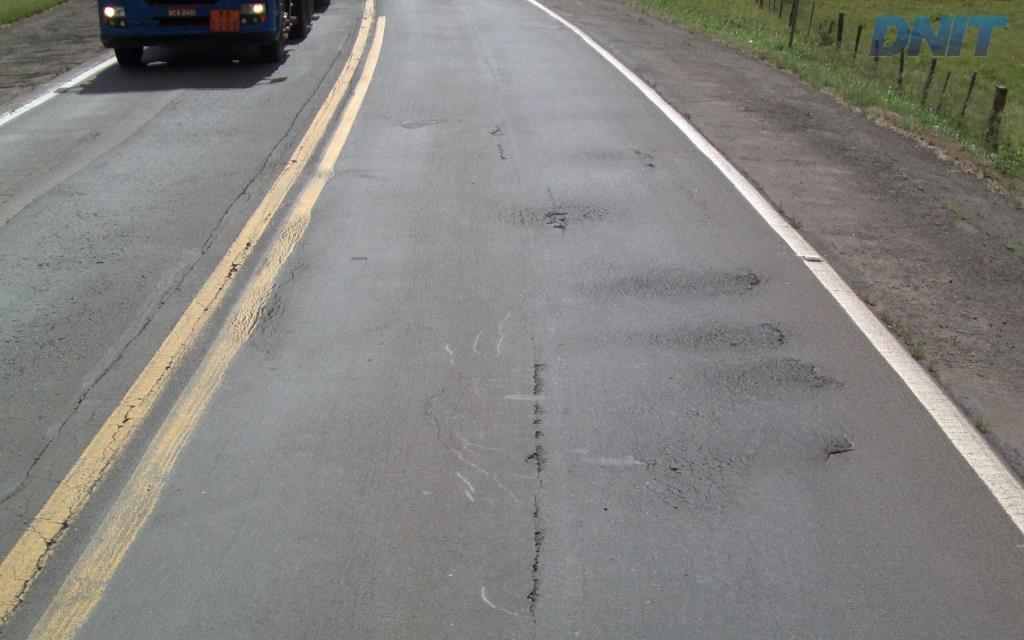crack: (525, 525, 544, 617)
